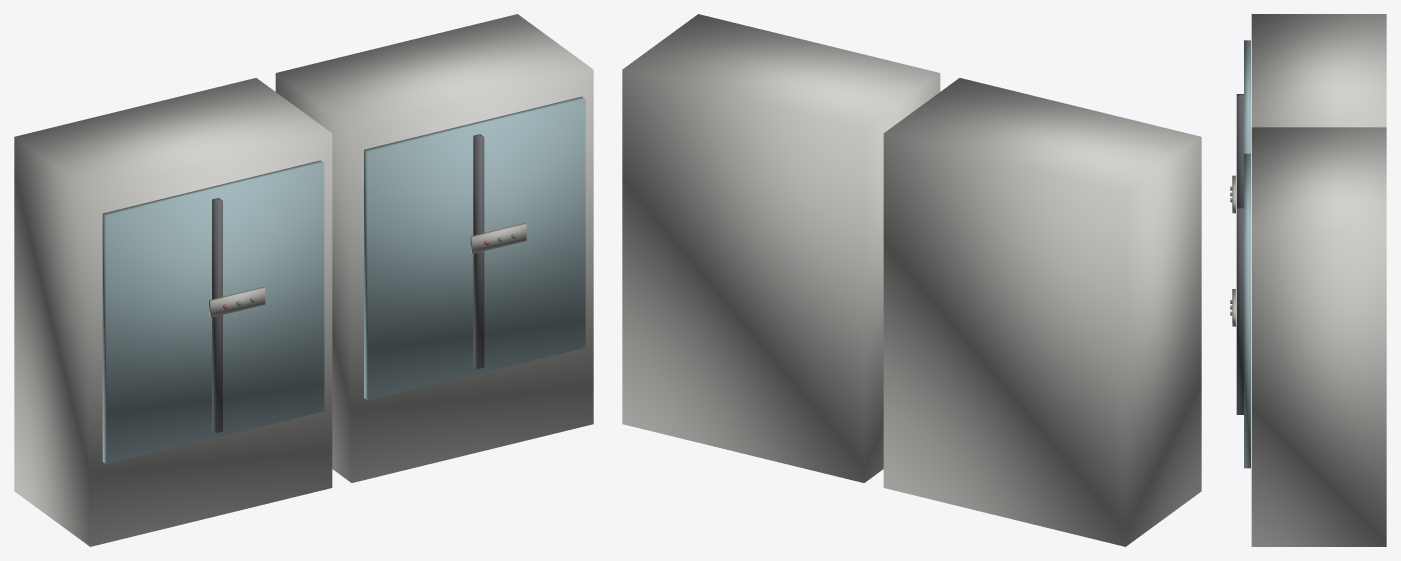
Rendered from freezer_chest__cluster.glb.
3 views of the same model, side by side, from view 1: azimuth 30°, elevation 25°; view 2: azimuth 150°, elevation 25°; view 3: azimuth 270°, elevation 25° (orthographic). The views are drawn at different scales.
Parts seen in each view (by area): view 1: world; view 2: world; view 3: world.
Boxes of the visible parts, bbox=[...] form: world: bbox=[14, 14, 593, 546]; world: bbox=[622, 14, 1201, 546]; world: bbox=[1230, 14, 1386, 546].
Size of the model in its own units: 2.6 by 1.75 by 0.786.
